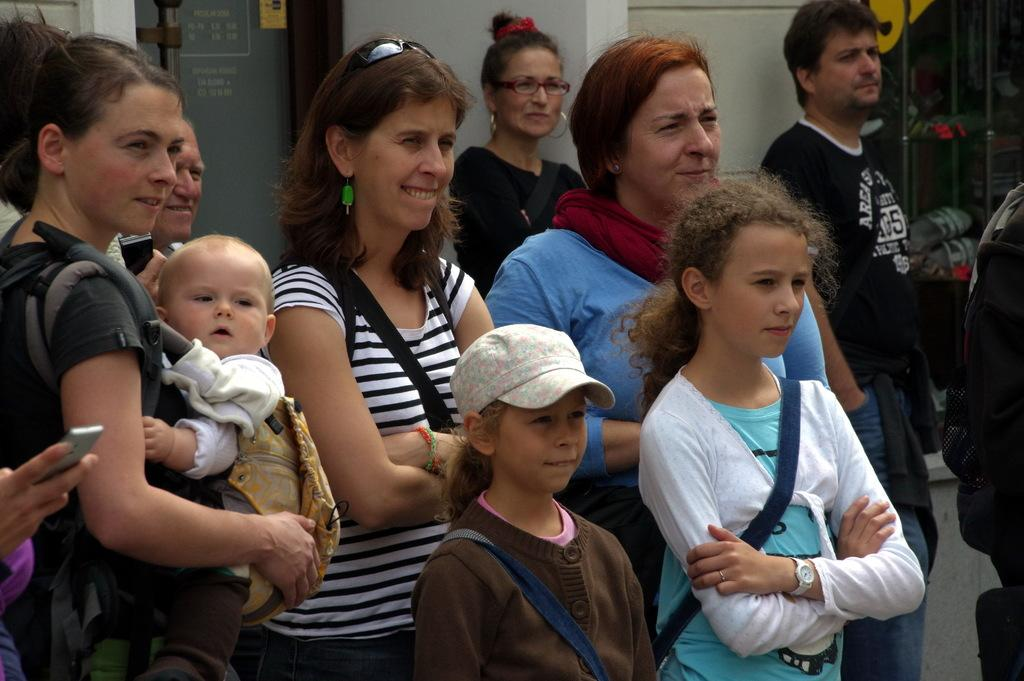Hat: (450, 322, 613, 420)
